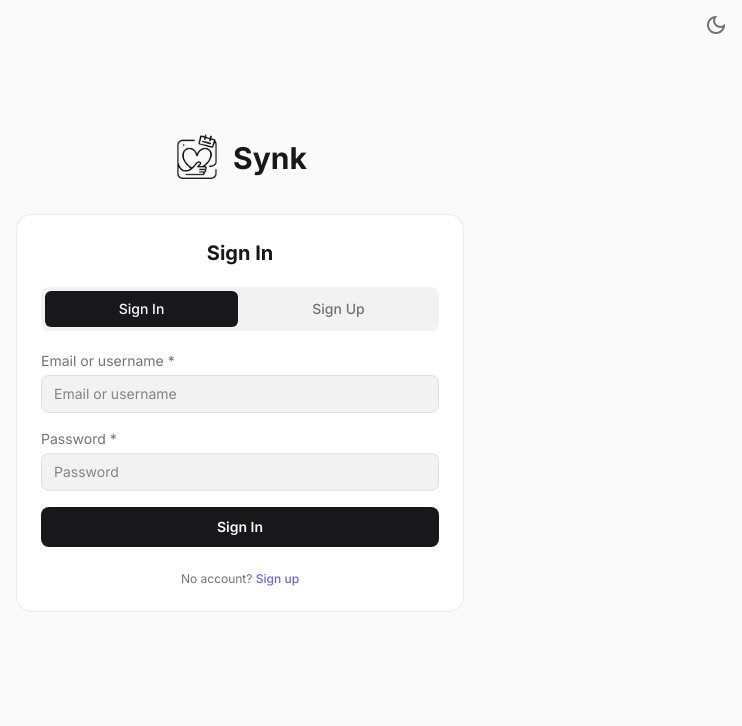
it: AuthView › toggles between sign-in and sign-up
The width and height of the screenshot is (742, 726).
Click the button "Sign Up". click: [338, 309]
box: x1=242 y1=291 x2=435 y2=327
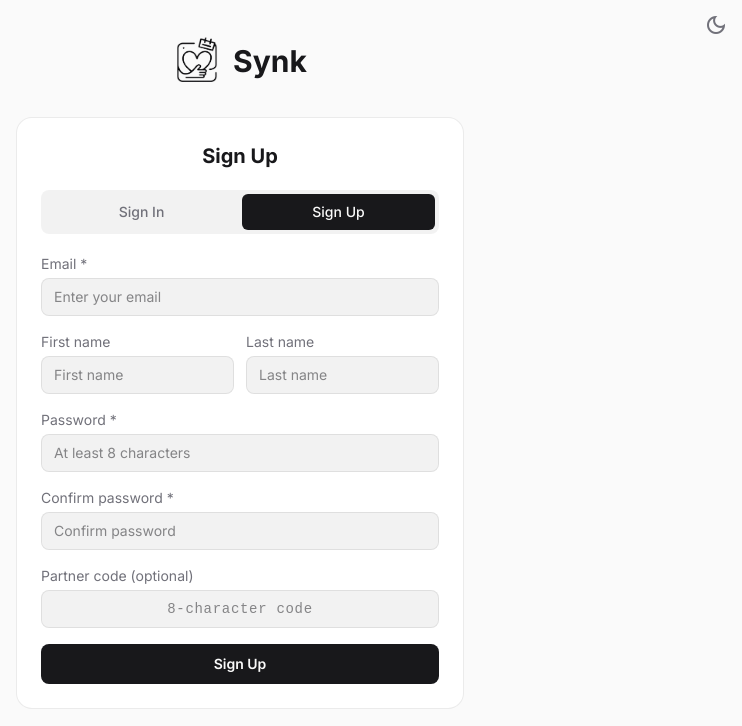
Check: the field with placeholder "Enter your email" is shown, box x1=41 y1=278 x2=439 y2=316
Check: the password field with placeholder "At least 8 characters" is shown, box x1=41 y1=434 x2=439 y2=472
